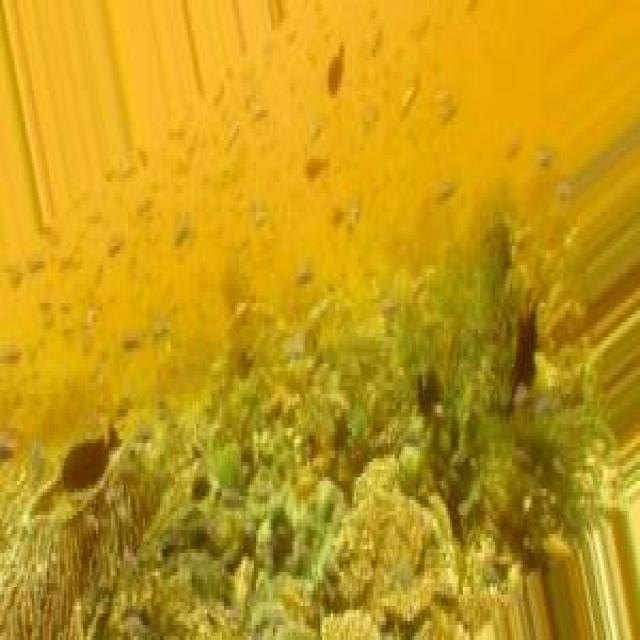Healthy: (1, 224, 615, 640)
